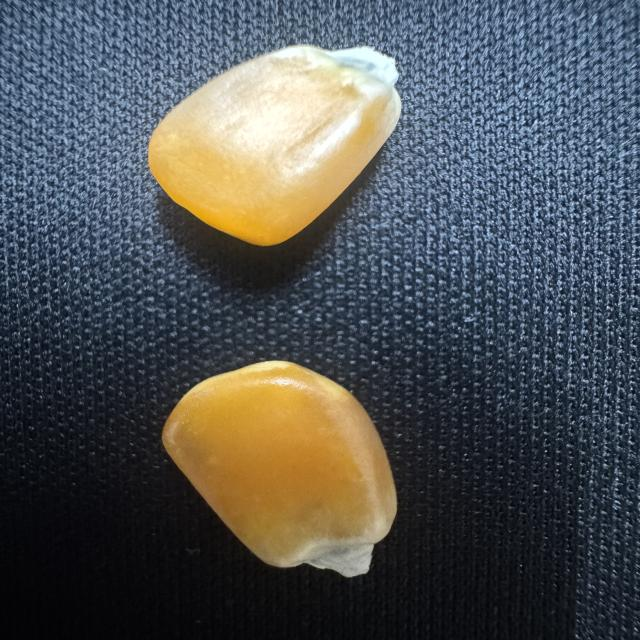Good-Seed: (136, 34, 412, 262), (146, 354, 416, 587)
